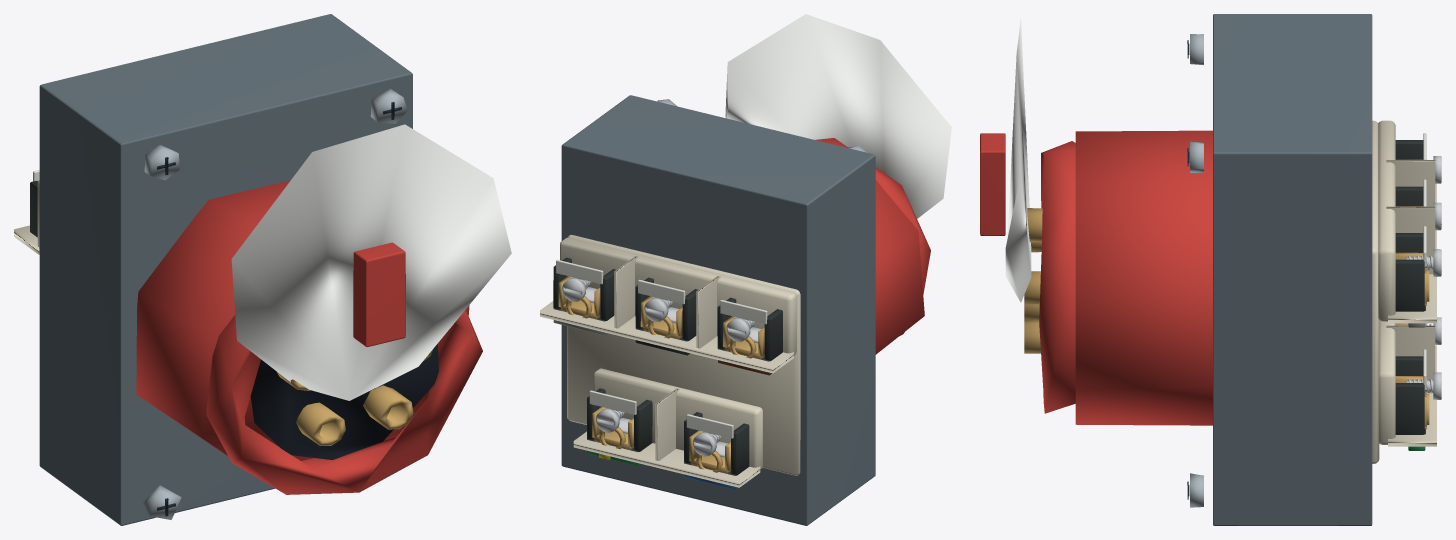
The model's file is socket3_default.low.glb.
The picture shows the model from 3 angles, left to right: view 1: azimuth 30°, elevation 25°; view 2: azimuth 150°, elevation 25°; view 3: azimuth 270°, elevation 25°; orthographic projection. The views are drawn at different scales.
Parts seen in each view (by area): view 1: part:body, part:cover, part:body · Original b2804608, detail:socket-contact-system · Detail machined brass, part:mounting · Original 2a8198d3, part:terminals · Original 5a609f27; view 2: part:body, part:terminals · Original 5a609f27, part:cover, part:body · Original b2804608, detail:terminal-clamp:L2 · Detail moulded engineering polyme, detail:terminal-clamp:L1 · Detail moulded engineering polyme, detail:terminal-clamp:N · Detail moulded engineering polymer, detail:terminal-clamp:PE · Detail moulded engineering polyme, detail:terminal-clamp:L3 · Detail moulded engineering polyme, detail:terminal-clamp:L3 · Detail machined brass, detail:terminal-clamp:L2 · Detail machined brass, detail:terminal-clamp:L1 · Detail machined brass (+12 smaller); view 3: part:body, part:body · Original b2804608, part:terminals · Original 5a609f27, part:cover, detail:terminal-clamp:L3 · Detail moulded engineering polyme, detail:terminal-clamp:PE · Detail moulded engineering polyme, detail:socket-contact-system · Detail machined brass, part:mounting · Original 2a8198d3, detail:terminal-clamp:L2 · Detail moulded engineering polyme, detail:terminal-clamp:L1 · Detail moulded engineering polyme.
Part boxes in pixels (<box>): part:body: <box>39,14,438,525</box>; part:cover: <box>231,124,511,400</box>; part:body · Original b2804608: <box>136,180,482,494</box>; detail:socket-contact-system · Detail machined brass: <box>277,349,432,445</box>; part:mounting · Original 2a8198d3: <box>142,88,407,519</box>; part:terminals · Original 5a609f27: <box>14,180,39,254</box>; part:body: <box>561,95,875,525</box>; part:terminals · Original 5a609f27: <box>540,234,800,487</box>; part:cover: <box>725,14,951,218</box>; part:body · Original b2804608: <box>816,138,930,354</box>; detail:terminal-clamp:L2 · Detail moulded engineering polyme: <box>635,277,698,355</box>; detail:terminal-clamp:L1 · Detail moulded engineering polyme: <box>717,297,782,361</box>; detail:terminal-clamp:N · Detail moulded engineering polymer: <box>684,412,749,475</box>; detail:terminal-clamp:PE · Detail moulded engineering polyme: <box>587,388,652,451</box>; detail:terminal-clamp:L3 · Detail moulded engineering polyme: <box>553,257,615,321</box>; detail:terminal-clamp:L3 · Detail machined brass: <box>558,276,600,319</box>; detail:terminal-clamp:L2 · Detail machined brass: <box>640,296,682,339</box>; detail:terminal-clamp:L1 · Detail machined brass: <box>723,316,764,359</box>; part:body: <box>1213,14,1372,525</box>; part:body · Original b2804608: <box>1039,130,1212,425</box>; part:terminals · Original 5a609f27: <box>1372,120,1436,463</box>; part:cover: <box>980,18,1031,302</box>; detail:terminal-clamp:L3 · Detail moulded engineering polyme: <box>1395,233,1425,311</box>; detail:terminal-clamp:PE · Detail moulded engineering polyme: <box>1395,356,1425,434</box>; detail:socket-contact-system · Detail machined brass: <box>1024,208,1042,353</box>; part:mounting · Original 2a8198d3: <box>1190,34,1203,507</box>; detail:terminal-clamp:L2 · Detail moulded engineering polyme: <box>1395,186,1423,206</box>; detail:terminal-clamp:L1 · Detail moulded engineering polyme: <box>1395,140,1423,159</box>.
Size of the model in its own units: 0.6092 by 0.8579 by 0.8516.
